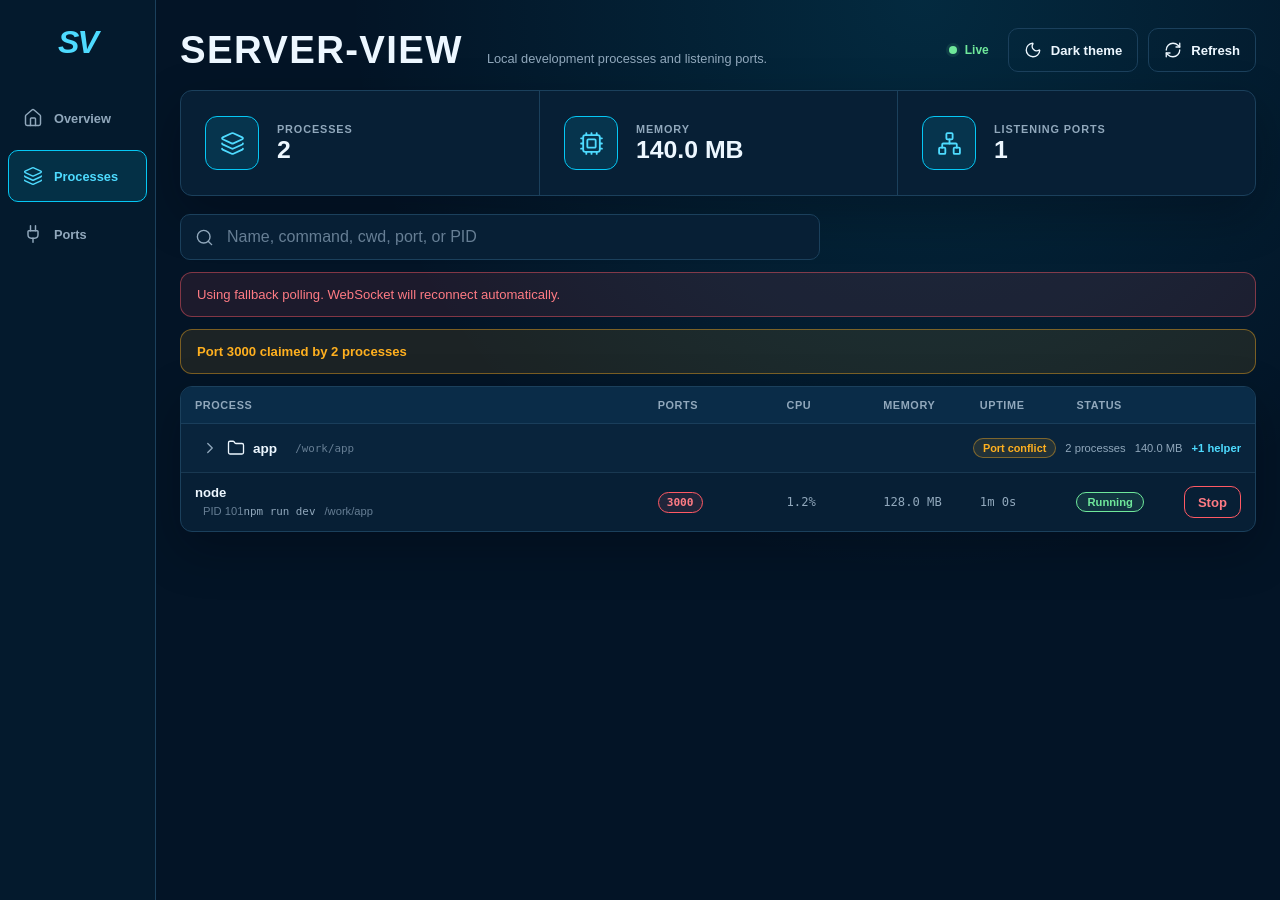
Test: App › groups processes by project, collapses helpers, and flags port conflicts
This screenshot has width=1280, height=900.
Expected: the text "Port 3000 claimed by 2 processes" is shown, x1=180 y1=329 x2=1256 y2=374
Expected: the text "Port conflict" is shown, x1=973 y1=438 x2=1056 y2=458
Note: Expanding the group reveals the helper.
Click the button with aria-label "Expand app helper processes". click: (239, 448)
box: x1=195 y1=433 x2=283 y2=463
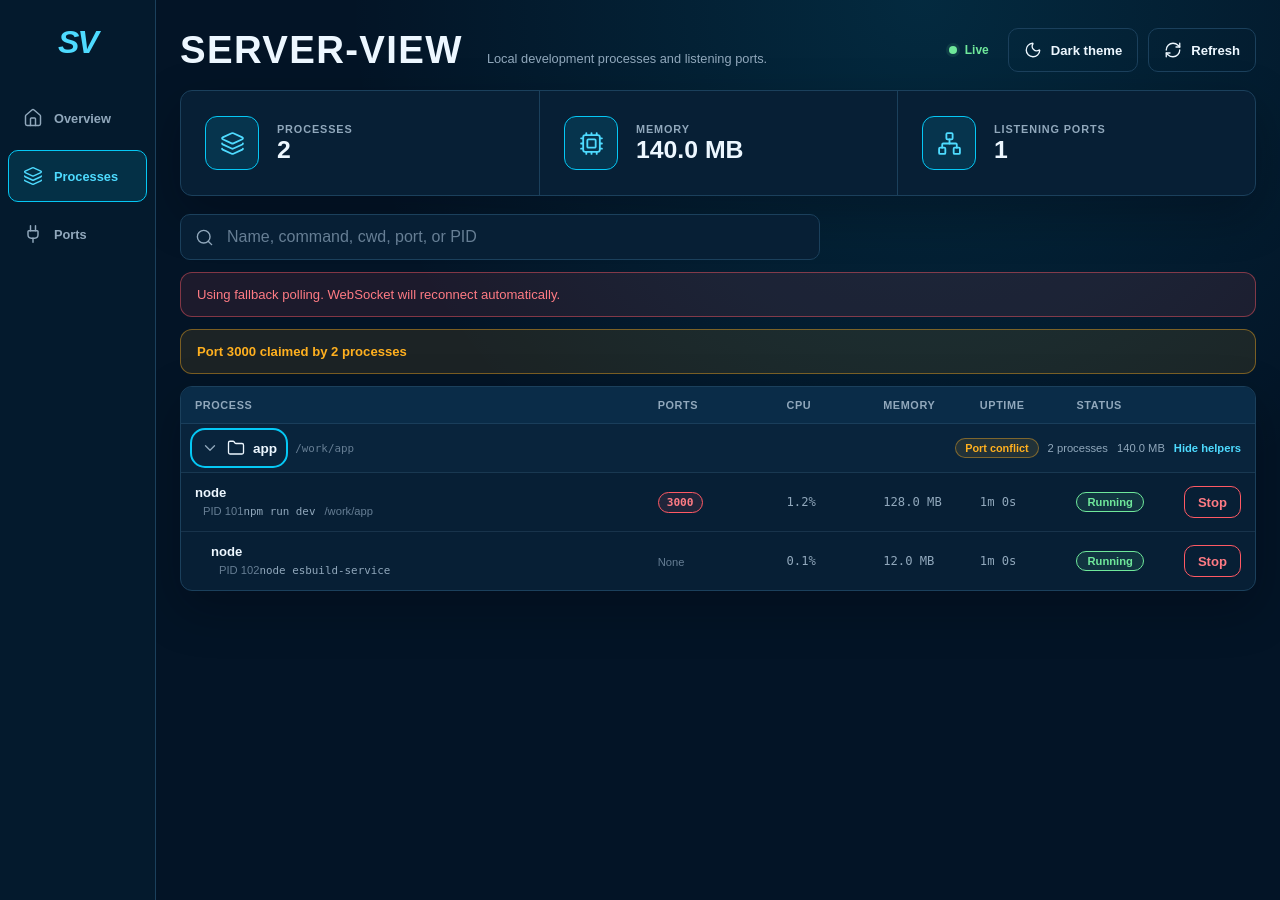
Result: the text "node esbuild-service" is shown at x1=259 y1=564 x2=390 y2=577
